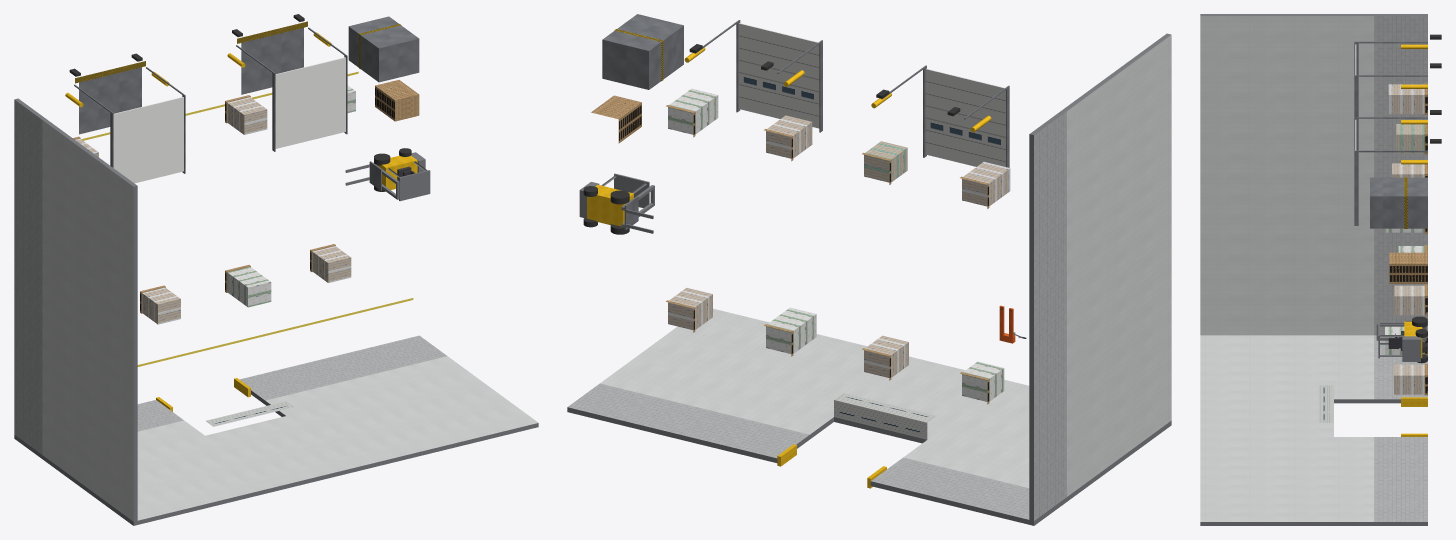
File: receiving.gltf
3 renders of one model, left to right at view 1: azimuth 30°, elevation 25°; view 2: azimuth 150°, elevation 25°; view 3: azimuth 270°, elevation 25°, orthographic. The views are drawn at different scales.
Visible parts, largest first — view 1: receiving; view 2: receiving; view 3: receiving.
Boxes of the visible parts, x1=… form: receiving: x1=14, y1=14, x2=538, y2=525; receiving: x1=567, y1=14, x2=1171, y2=525; receiving: x1=1200, y1=14, x2=1441, y2=525.
Bounding box in the file's own units: 20 × 16.52 × 10.82.
Materials: 21 (16 with a texture image).
